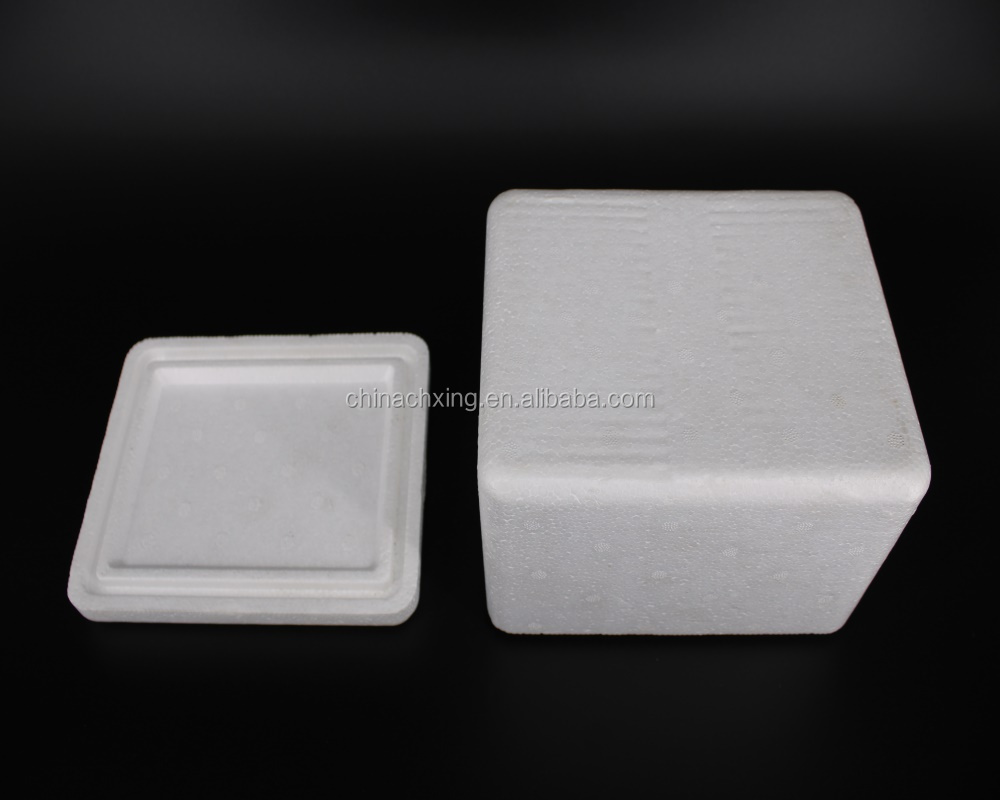泡沫箱: (478, 191, 930, 633)
